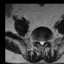CCS_severe_stenosis: (41, 39, 43, 47)
LFS_severe_stenosis: (45, 39, 47, 43)
LLS_normal: (43, 39, 45, 45)
RFS_severe_stenosis: (36, 38, 39, 44)
RLS_normal: (39, 39, 41, 45)
